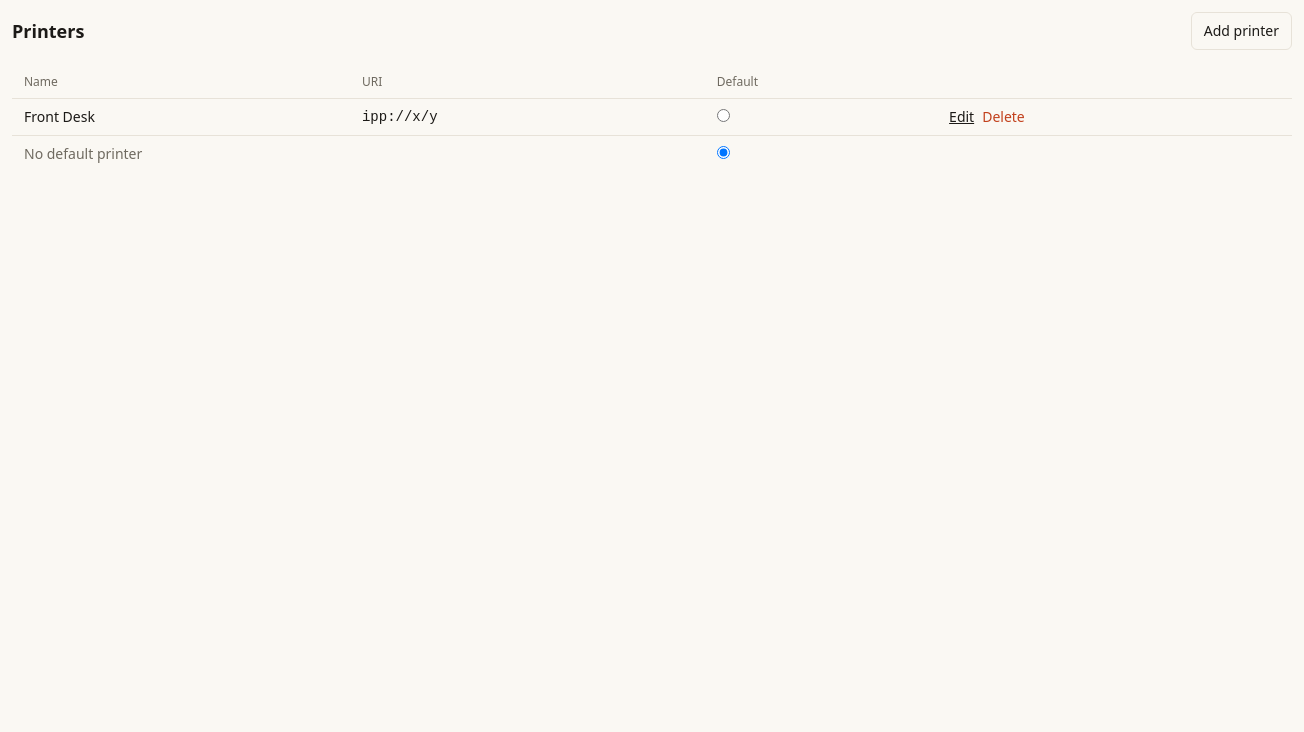
PrintersSection › edits a printer via PUT without an id; the id has no field on edit
This screenshot has width=1304, height=732.
Click the button "Edit".
click(962, 117)  # box [949,107,974,127]
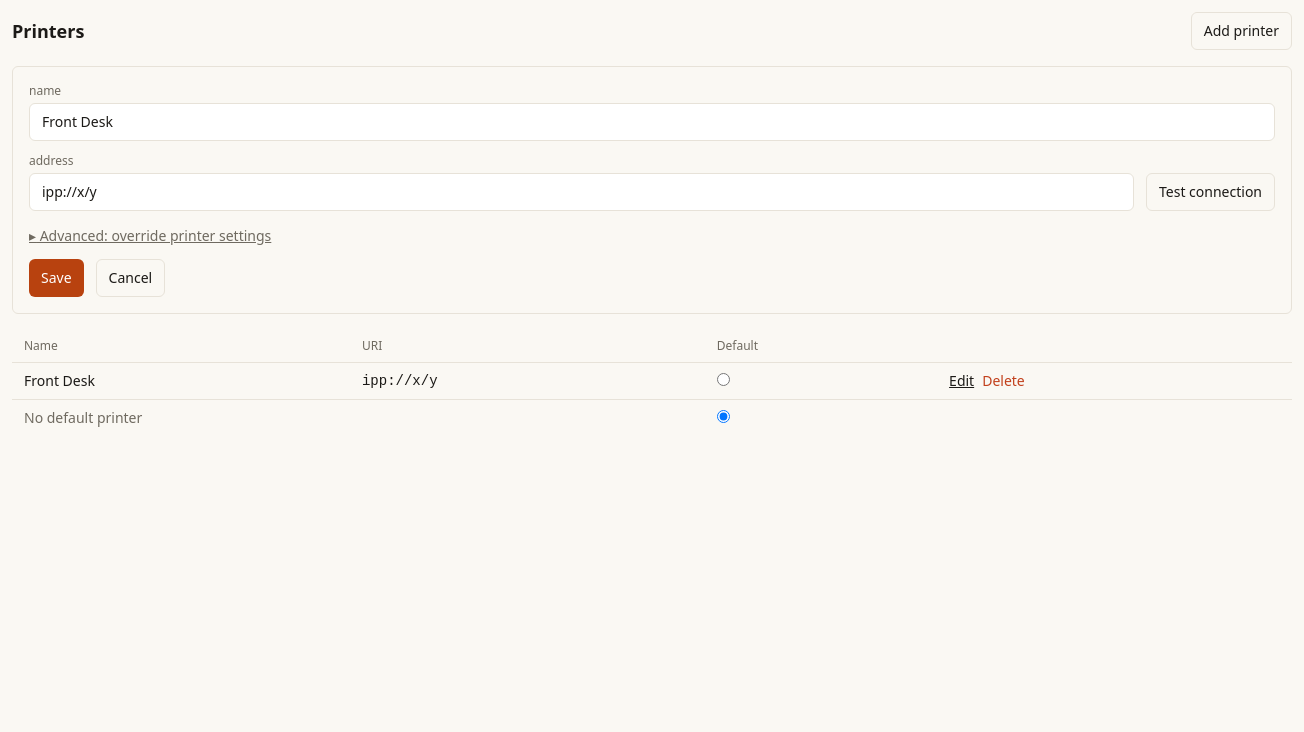
Replace the text in the field named "printer name" with "Lobby" at (652, 122), box [29,103,1275,141]
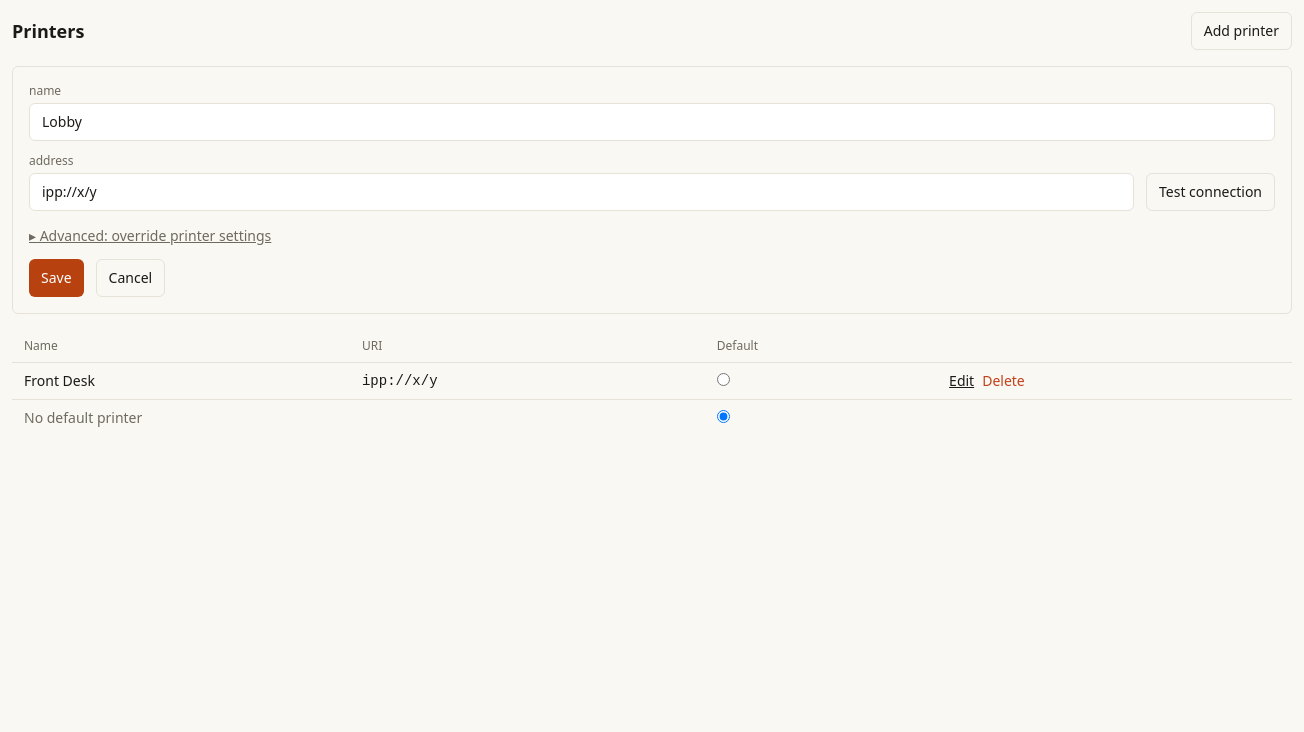
Replace the text in the field labelled "address" with "ipp://x/z" at (582, 192), box [29,173,1134,211]
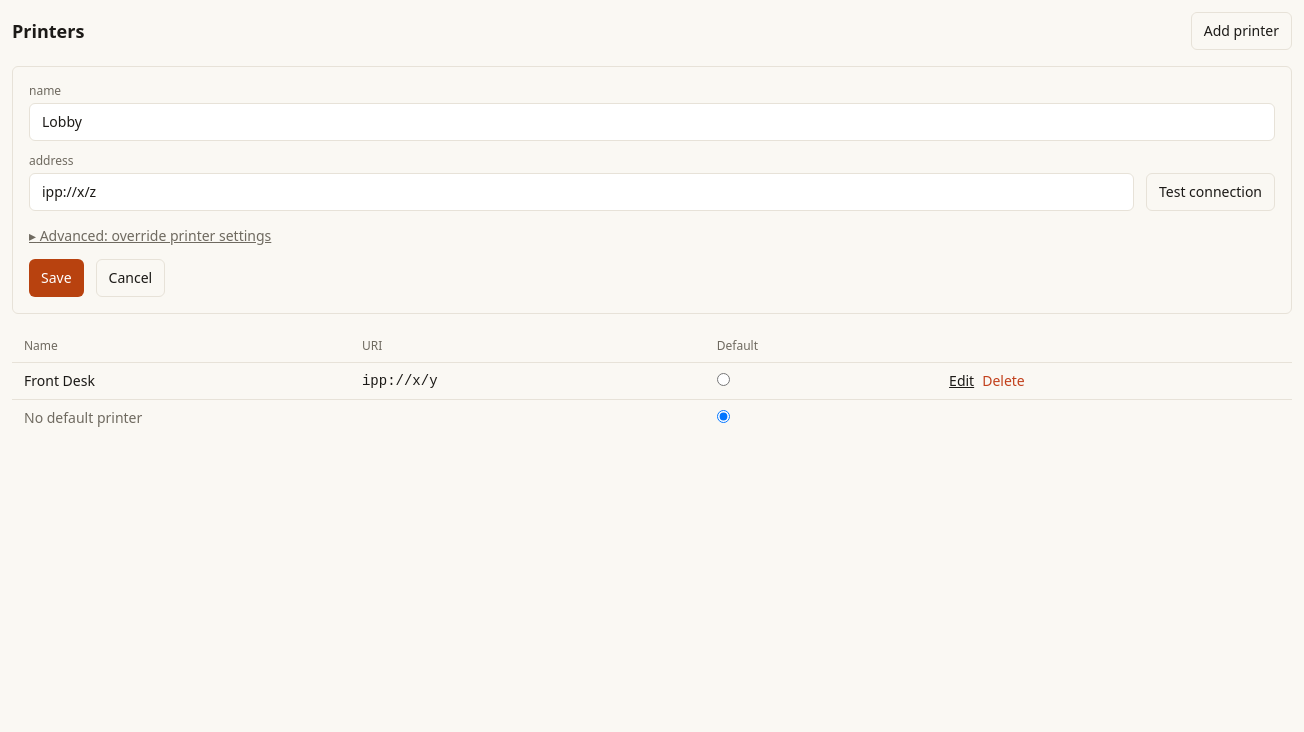
Click the button "Save".
click(56, 278)  # box [29,259,84,297]
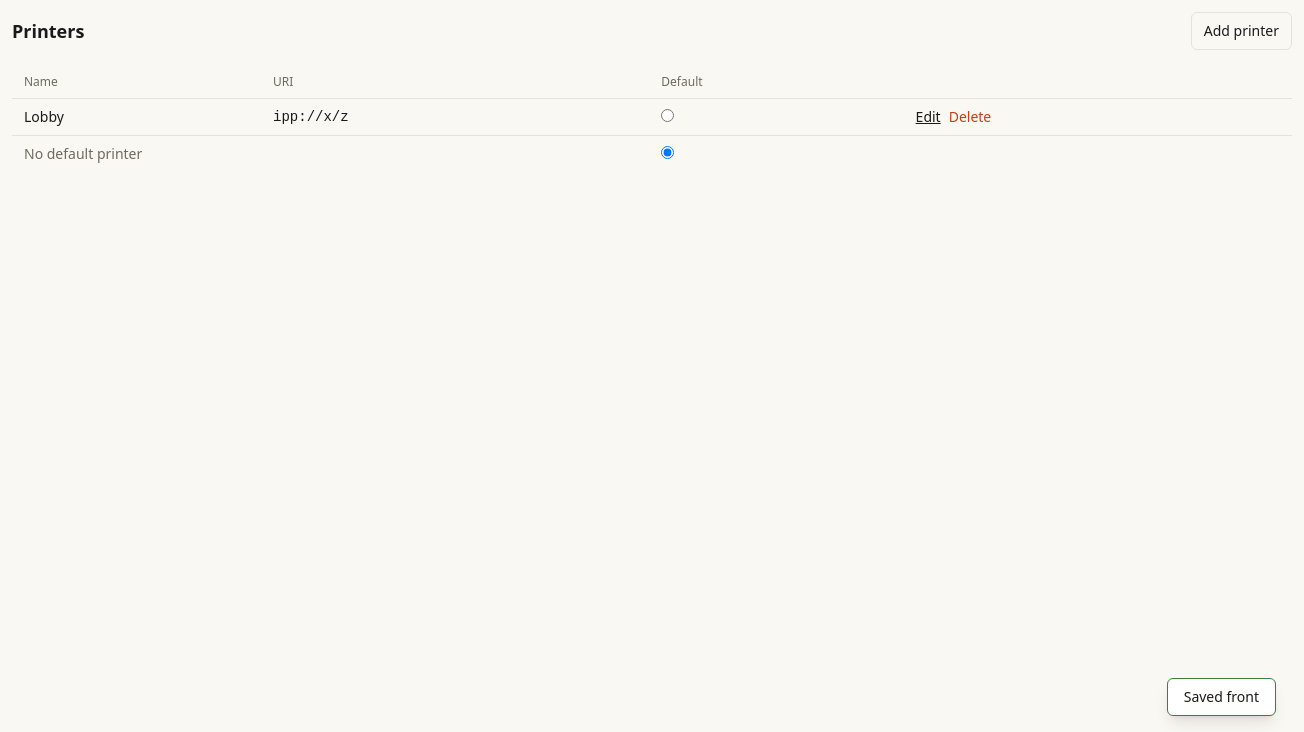
expect the text "Lobby" is shown: met, box [12,98,261,136]
